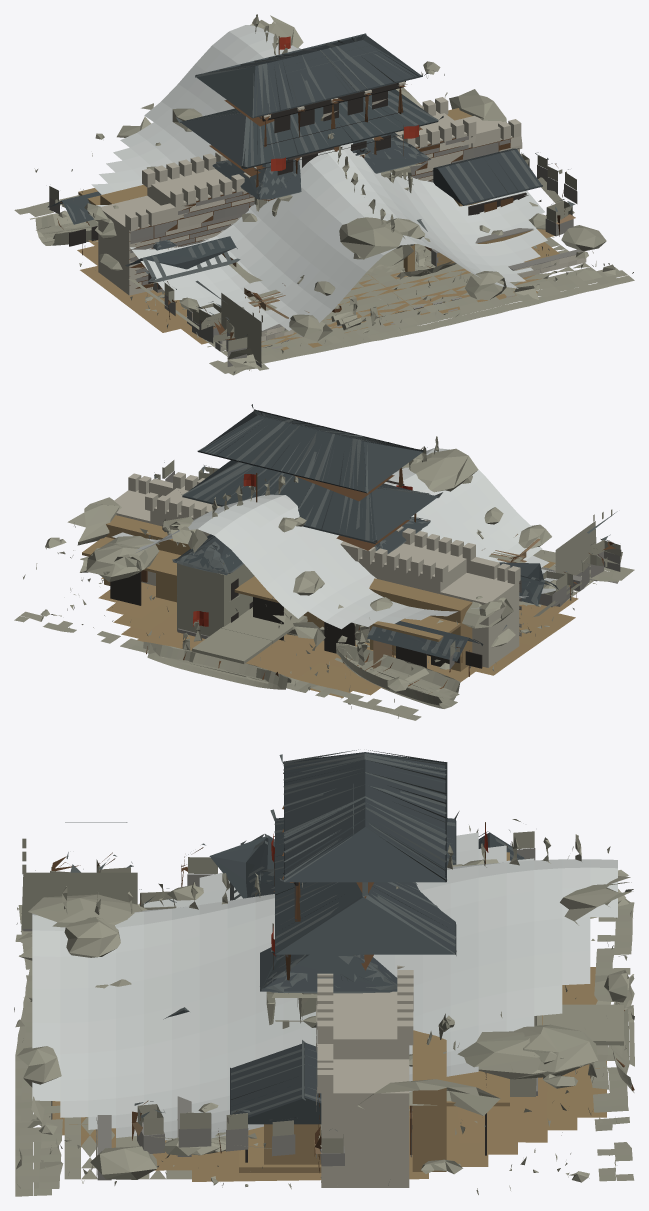
The model's file is valley-landmarks.glb.
3 renders of one model, top to bottom at view 1: azimuth 30°, elevation 25°; view 2: azimuth 150°, elevation 25°; view 3: azimuth 270°, elevation 25°, orthographic. The views are drawn at different scales.
Visible parts, largest first — view 1: jiajin, huining, zunyi, wuqi, luding, songpan, yudu, jiaoping; view 2: huining, jiajin, zunyi, yudu, songpan, wuqi, luding; view 3: jiajin, huining, zunyi, wuqi, songpan, luding, yudu.
Part boxes in pixels (<box>): jiajin: <box>71,14,615,370</box>; huining: <box>84,33,634,375</box>; zunyi: <box>14,132,621,373</box>; wuqi: <box>34,64,576,345</box>; luding: <box>49,152,588,366</box>; songpan: <box>77,229,633,370</box>; yudu: <box>30,213,559,349</box>; jiaoping: <box>82,72,456,311</box>; huining: <box>70,404,619,708</box>; jiajin: <box>45,436,622,646</box>; zunyi: <box>14,509,634,720</box>; yudu: <box>143,529,596,708</box>; songpan: <box>42,561,578,718</box>; wuqi: <box>36,515,555,671</box>; luding: <box>40,460,621,698</box>; jiajin: <box>16,819,634,1179</box>; huining: <box>15,749,627,1196</box>; zunyi: <box>15,822,634,1189</box>; wuqi: <box>49,825,610,1175</box>; songpan: <box>16,923,609,1188</box>; luding: <box>17,830,626,1182</box>; yudu: <box>23,974,634,1185</box>.
Size of the model in its own units: 1 by 0.4333 by 0.9109.
